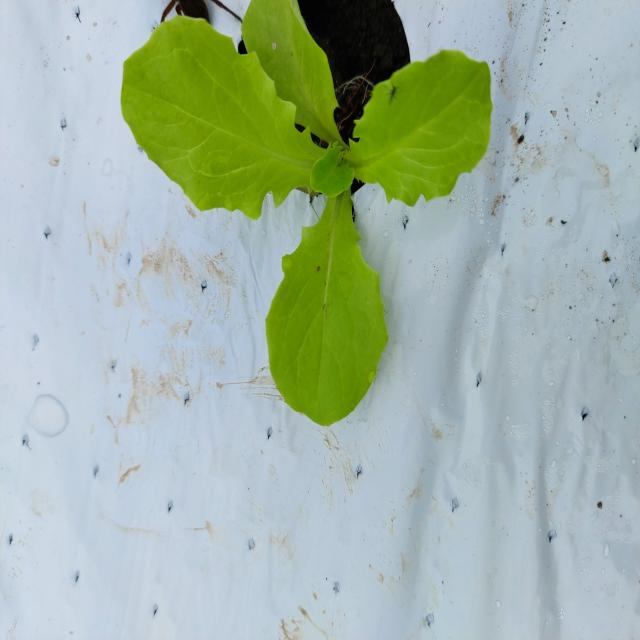Lettuce-Not-Ready-to-Harvest: (119, 1, 492, 421)
